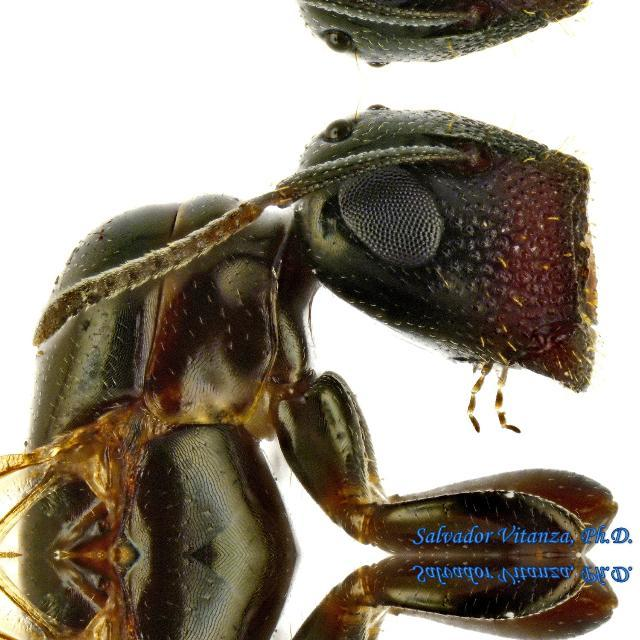Colobopsis: (2, 113, 634, 554)
